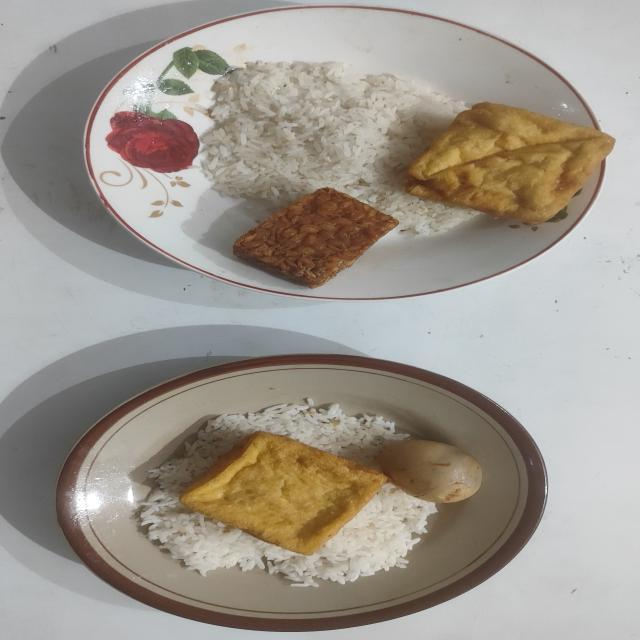nasi_putih: (140, 398, 438, 587), (200, 61, 477, 236)
tahu_goreng: (180, 432, 386, 554), (407, 103, 614, 223)
tempe_goreng: (233, 188, 398, 288)
